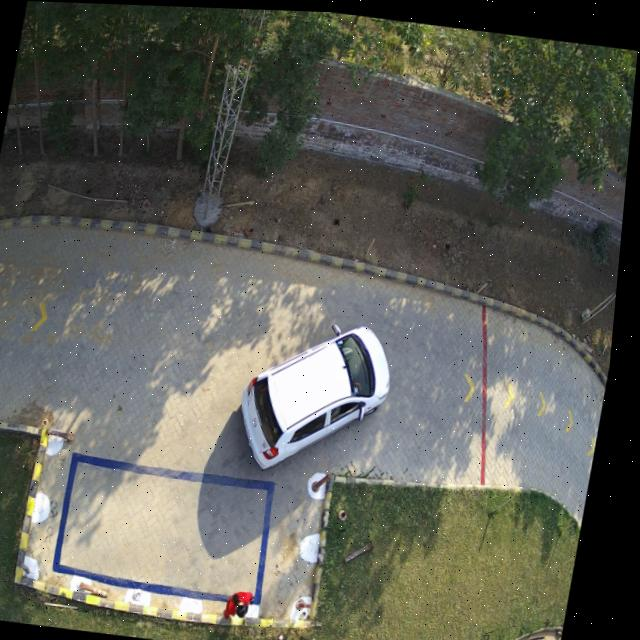car: (248, 322, 396, 466)
